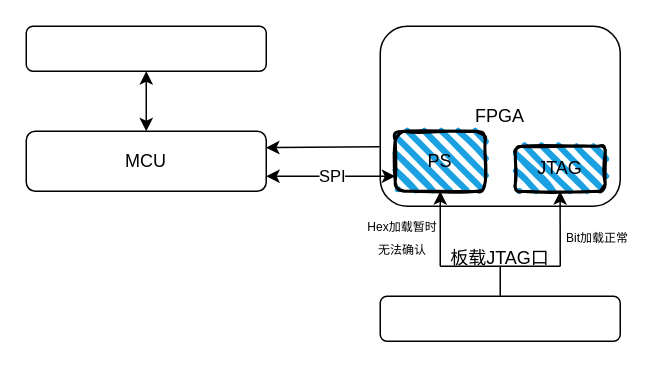
This 662x368 diagram has some shape labels left out. The centre of each missing label's shape, as x and y in pixels:
"Flash" goes at [145,48].
"下载器" goes at [499,318].
